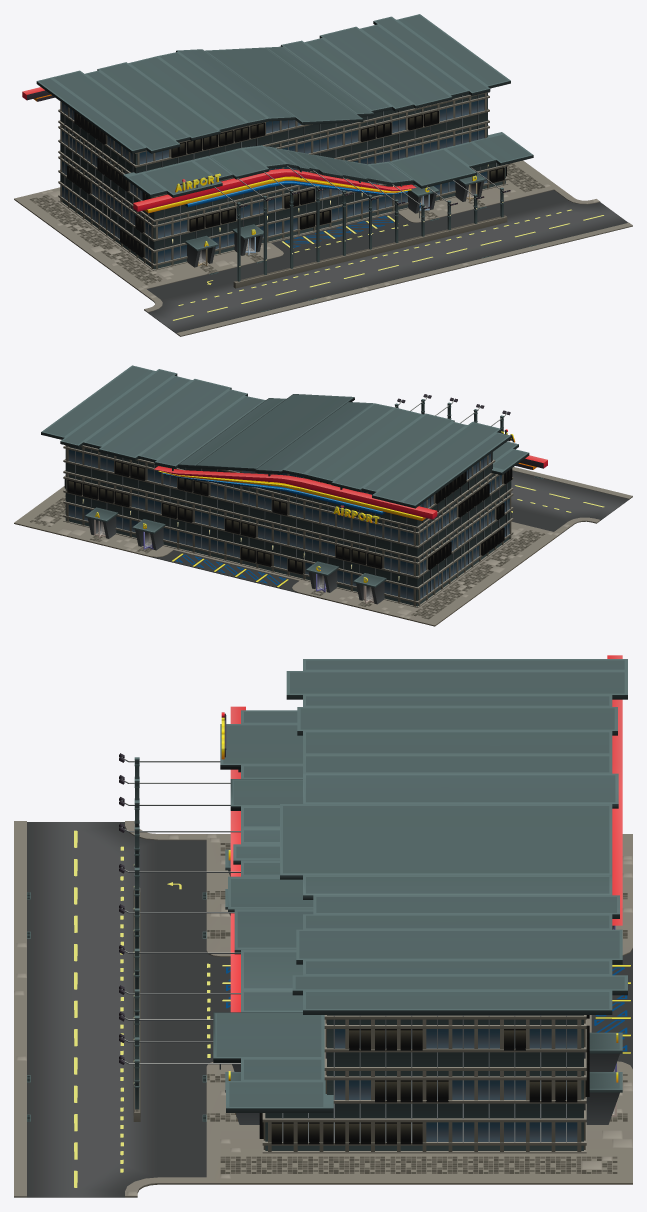
File: tp_airport_shell.glb
The picture shows the model from 3 angles, top to bottom: view 1: azimuth 30°, elevation 25°; view 2: azimuth 150°, elevation 25°; view 3: azimuth 270°, elevation 25°; orthographic projection. The views are drawn at different scales.
Parts seen in each view (by area): view 1: Upper, Road, Canopy, Lot, Facade, Poles, Lights_Upper, Lights, Porch_8, Porch_7, Porch_6, Porch_5; view 2: Upper, Lot, Facade, Road, Lights_Upper, Canopy, Lights, Porch_4, Porch_3, Porch_1, Porch_2, Poles; view 3: Upper, Road, Canopy, Lot, Facade, Lights_Upper, Poles, Lights, Porch_4, Porch_3.
Boxes of the visible parts, x1,y1,x2,y2 form: Upper: (22, 14, 510, 241); Road: (135, 185, 632, 336); Canopy: (123, 132, 533, 213); Lot: (14, 135, 555, 288); Facade: (58, 162, 508, 269); Poles: (233, 172, 510, 288); Lights_Upper: (67, 110, 438, 232); Lights: (120, 166, 506, 257); Porch_8: (185, 235, 218, 267); Porch_7: (232, 224, 263, 255); Porch_6: (408, 184, 439, 213); Porch_5: (455, 173, 486, 201); Upper: (41, 365, 513, 578); Lot: (14, 486, 556, 626); Facade: (63, 493, 513, 606); Road: (511, 467, 632, 537); Lights_Upper: (64, 461, 512, 569); Canopy: (395, 399, 547, 475); Lights: (240, 527, 504, 574); Porch_4: (85, 507, 118, 538); Porch_3: (132, 519, 165, 550); Porch_1: (353, 573, 386, 604); Porch_2: (306, 561, 339, 592); Poles: (394, 394, 510, 431); Upper: (280, 655, 627, 1103); Road: (14, 821, 220, 1197); Canopy: (129, 706, 333, 1112); Lot: (220, 834, 632, 1184); Facade: (262, 1103, 586, 1151); Lights_Upper: (349, 1015, 589, 1102); Poles: (119, 753, 140, 1121); Lights: (259, 1113, 422, 1144); Porch_4: (586, 1072, 622, 1124); Porch_3: (589, 1032, 622, 1071).
Bounding box in the file's own units: 86 × 20.9 × 60.
4 materials, 4 textured.
